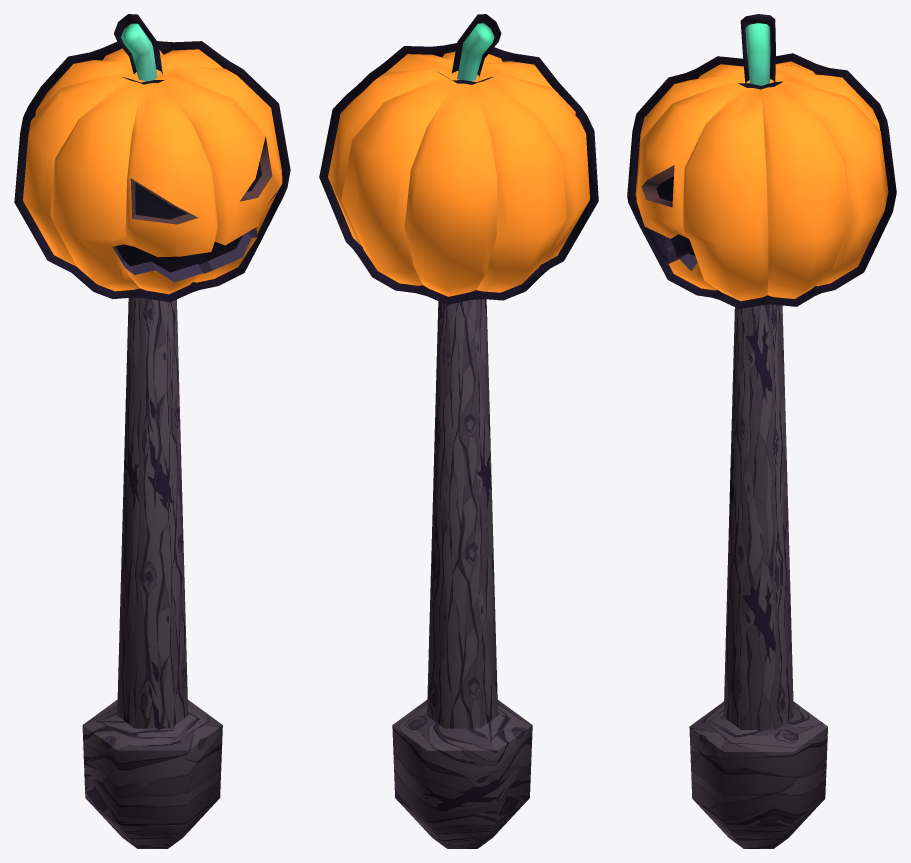
The model's file is PumpkinDummy.glb.
3 renders of one model, left to right at view 1: azimuth 30°, elevation 25°; view 2: azimuth 150°, elevation 25°; view 3: azimuth 270°, elevation 25°, orthographic.
Visible parts, largest first — view 1: PumpkinDummy; view 2: PumpkinDummy; view 3: PumpkinDummy.
Part boxes in pixels (box(x1,y1,x2,y2)): PumpkinDummy: box(14, 14, 290, 848); PumpkinDummy: box(319, 14, 598, 848); PumpkinDummy: box(627, 14, 896, 848).
Size of what is drawn, in the model's own units: 0.82 by 2.76 by 0.8251.
2 materials, 2 textured.
